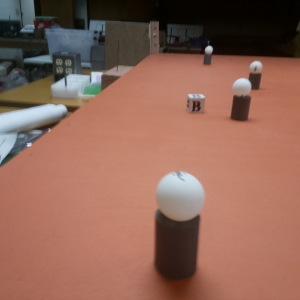blockB: (184, 93, 205, 113)
corner: (148, 20, 160, 55)
obstacle: (154, 171, 205, 280), (229, 78, 250, 120), (252, 60, 264, 91), (204, 45, 214, 66)
